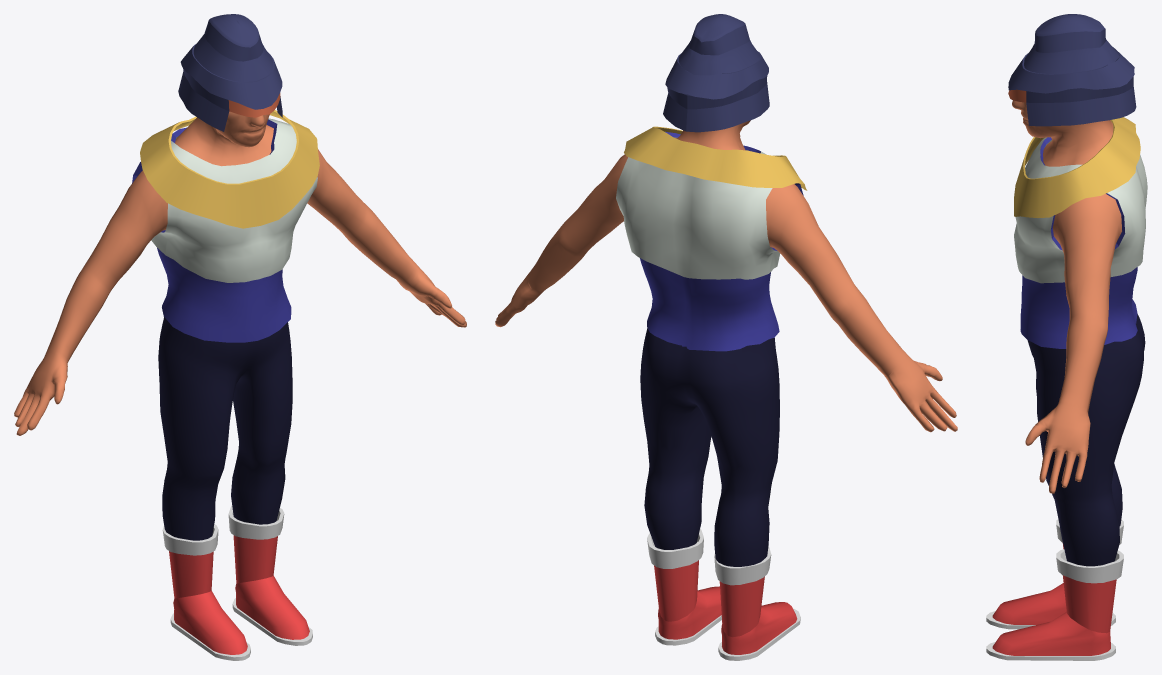
The model's file is Basemodel_CLOTHRESDSFASDF 1.fbx.
The picture shows the model from 3 angles, left to right: view 1: azimuth 30°, elevation 25°; view 2: azimuth 150°, elevation 25°; view 3: azimuth 270°, elevation 25°; orthographic projection. The views are drawn at different scales.
Parts seen in each view (by area): view 1: Clothers, Character model.001_low; view 2: Clothers, Character model.001_low; view 3: Clothers, Character model.001_low.
Part boxes in pixels (<box>): Clothers: <box>132,14,319,660</box>; Character model.001_low: <box>14,111,466,435</box>; Clothers: <box>616,14,807,660</box>; Character model.001_low: <box>495,120,957,432</box>; Clothers: <box>986,14,1147,660</box>; Character model.001_low: <box>1012,100,1121,493</box>.
Size of the model in its own units: 1850 by 2378 by 561.
